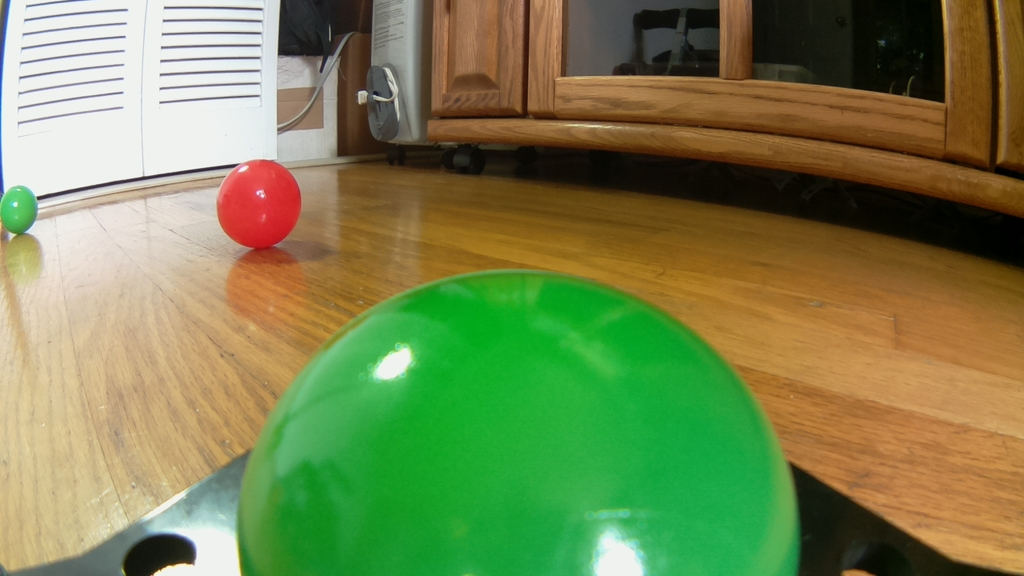ball: (0, 184, 38, 236)
